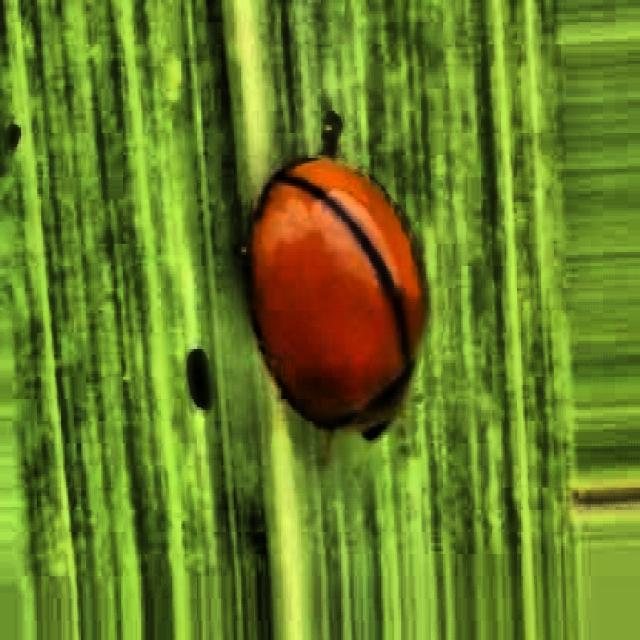Ladybug: (189, 62, 470, 516)
